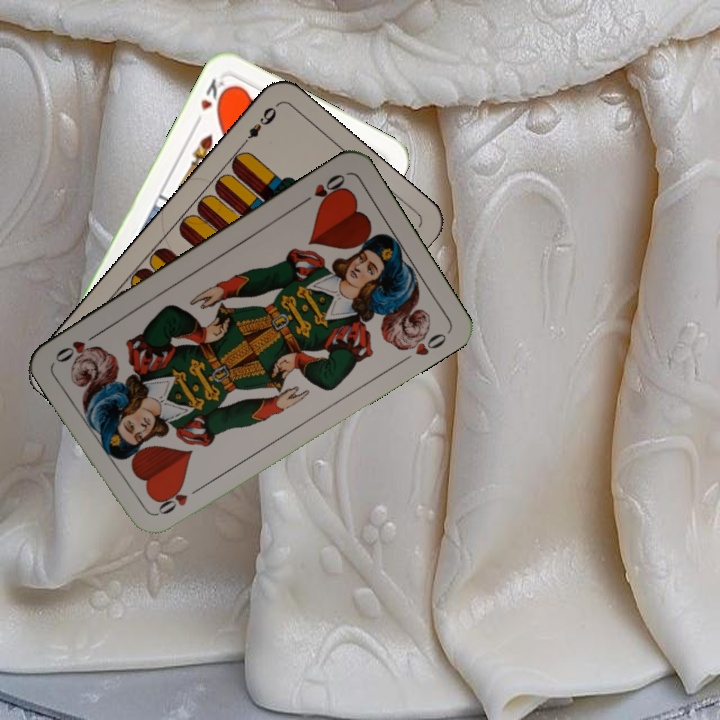E9: (237, 103, 279, 150)
HK: (190, 74, 231, 128)
HO: (297, 170, 348, 208), (150, 481, 190, 519)
